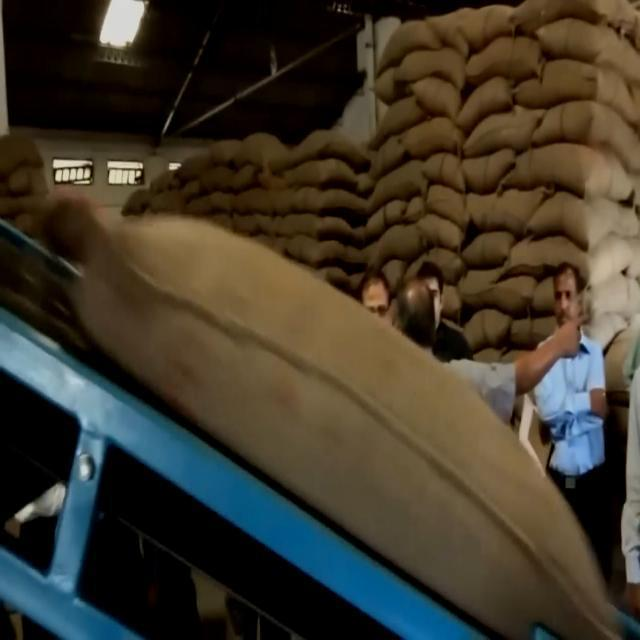gunny_bag: (54, 201, 640, 640), (494, 139, 640, 204), (531, 98, 640, 180), (507, 0, 640, 54), (502, 235, 633, 288), (539, 19, 640, 86), (523, 186, 631, 246), (466, 35, 550, 83), (452, 74, 519, 133), (432, 5, 518, 50), (286, 226, 372, 270), (458, 112, 542, 157), (463, 191, 548, 235), (376, 18, 448, 68), (394, 47, 474, 92), (367, 100, 429, 155), (282, 154, 368, 192), (399, 116, 469, 162), (282, 132, 366, 170), (290, 184, 368, 224), (410, 210, 472, 260), (369, 160, 432, 209), (467, 276, 538, 318), (230, 180, 300, 220), (411, 74, 466, 122), (368, 222, 424, 266), (458, 232, 518, 270), (424, 151, 470, 198), (239, 134, 295, 172), (427, 182, 467, 230), (209, 136, 256, 166), (175, 156, 219, 184), (196, 191, 240, 214)
